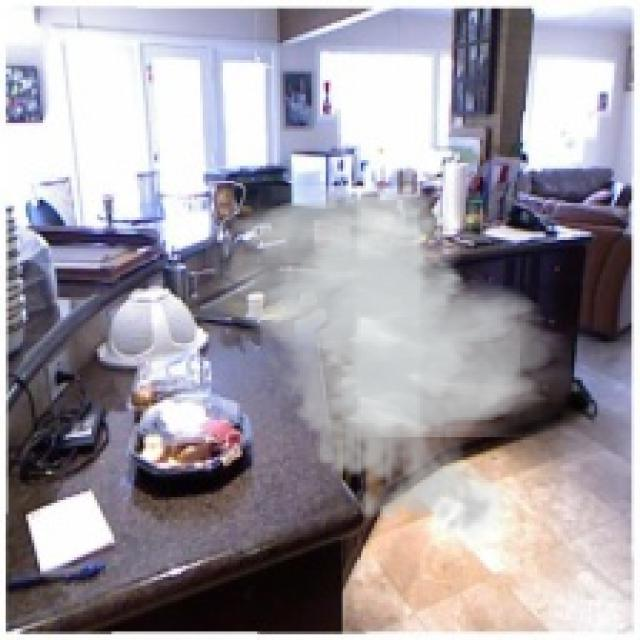Smoke: (206, 186, 572, 543)
